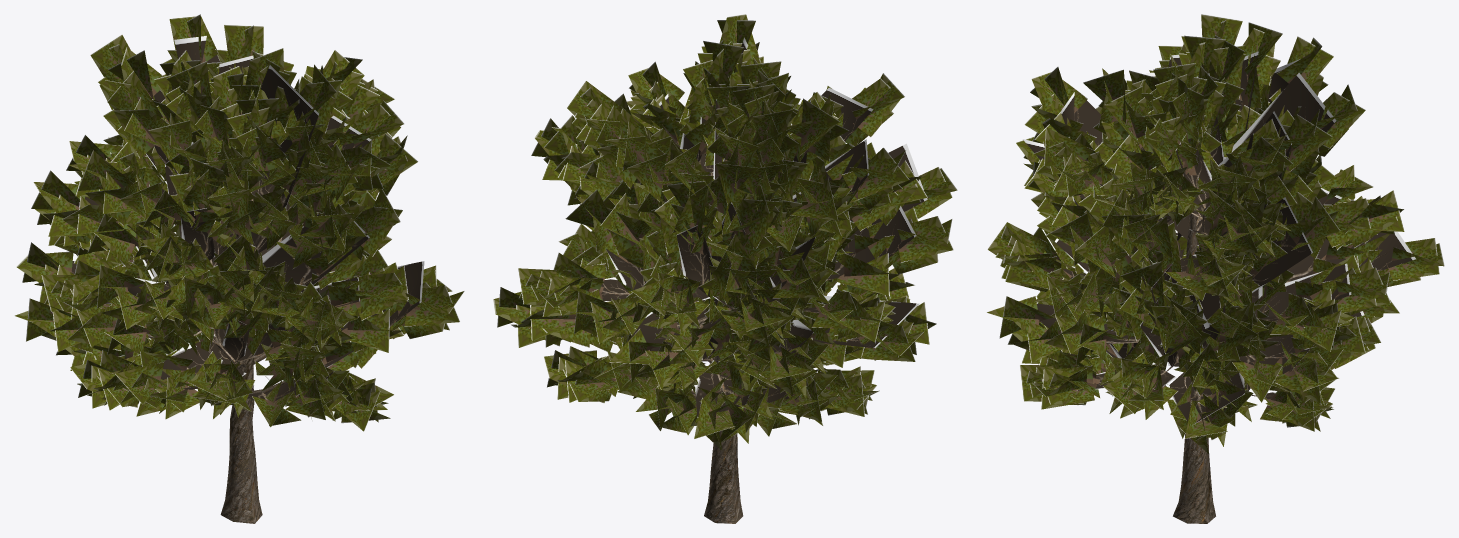
Rendered from tree3.obj.
3 renders of one model, left to right at view 1: azimuth 30°, elevation 25°; view 2: azimuth 150°, elevation 25°; view 3: azimuth 270°, elevation 25°, orthographic.
Parts seen in each view (by area): view 1: Leaf_6, Bark_9; view 2: Leaf_6, Bark_9; view 3: Leaf_6, Bark_9.
Boxes of the visible parts, x1,y1,x2,y2 form: Leaf_6: [14, 14, 464, 431]; Bark_9: [214, 200, 294, 523]; Leaf_6: [493, 14, 957, 450]; Bark_9: [691, 284, 743, 523]; Leaf_6: [986, 14, 1444, 453]; Bark_9: [1157, 206, 1259, 523].
Bounding box in the file's own units: 55.59 × 60.72 × 54.44.
3 materials, 3 textured.
